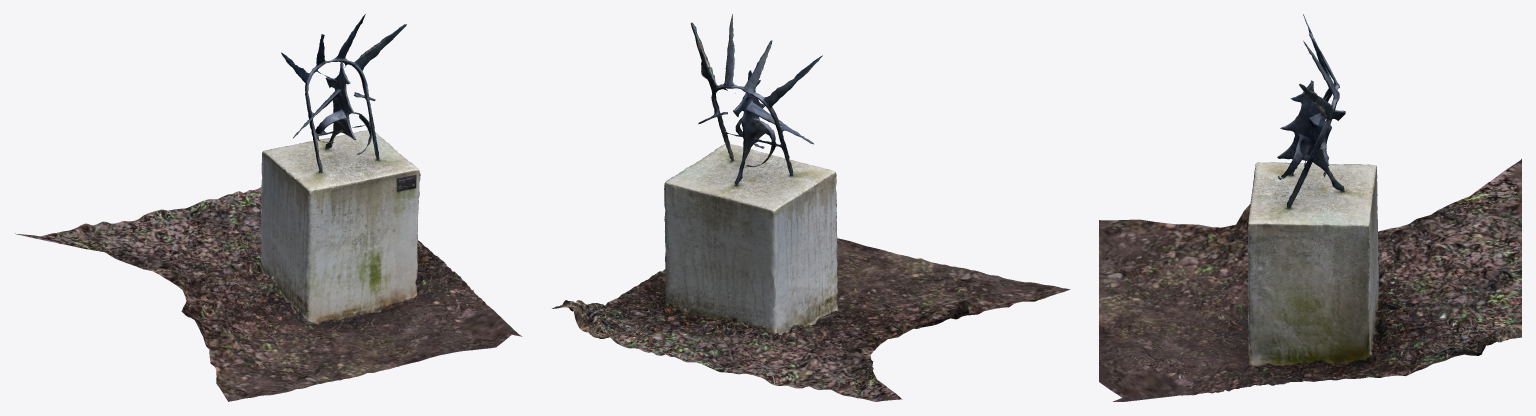
Rendered from scream.obj.
3 renders of one model, left to right at view 1: azimuth 30°, elevation 25°; view 2: azimuth 150°, elevation 25°; view 3: azimuth 270°, elevation 25°, orthographic. The views are drawn at different scales.
Visible parts, largest first — view 1: Object; view 2: Object; view 3: Object.
Boxes of the visible parts, x1,y1,x2,y2 form: Object: [15, 14, 521, 401]; Object: [552, 14, 1070, 401]; Object: [1099, 14, 1521, 401].
Bounding box in the file's own units: 2.18 × 1.77 × 2.12.
